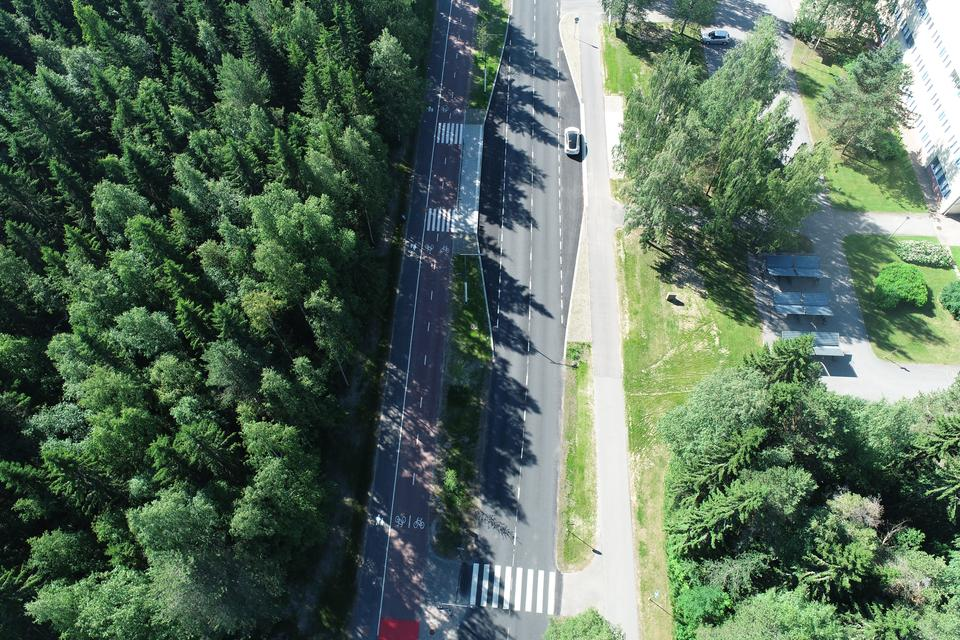intersection: (337, 524, 654, 629), (495, 0, 626, 28)
